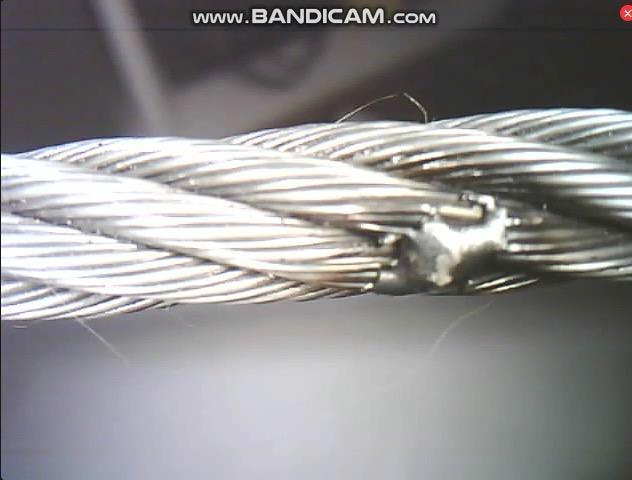thunderbolt: (324, 170, 540, 288)
